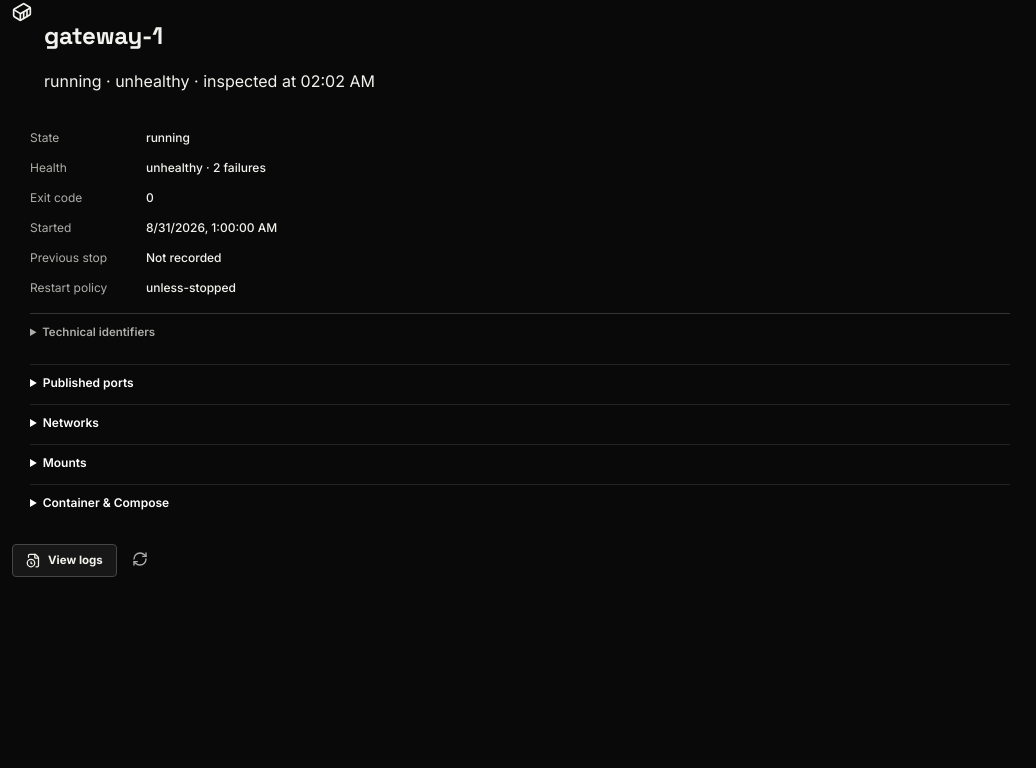
Test: DockerContainerInspector › shows typed sections and never renders sensitive Docker fields
Expected: the text "Previous stop" is shown, [30,250,107,265]
Click the heading "Published ports" at (88, 382), box [43,375,134,390]
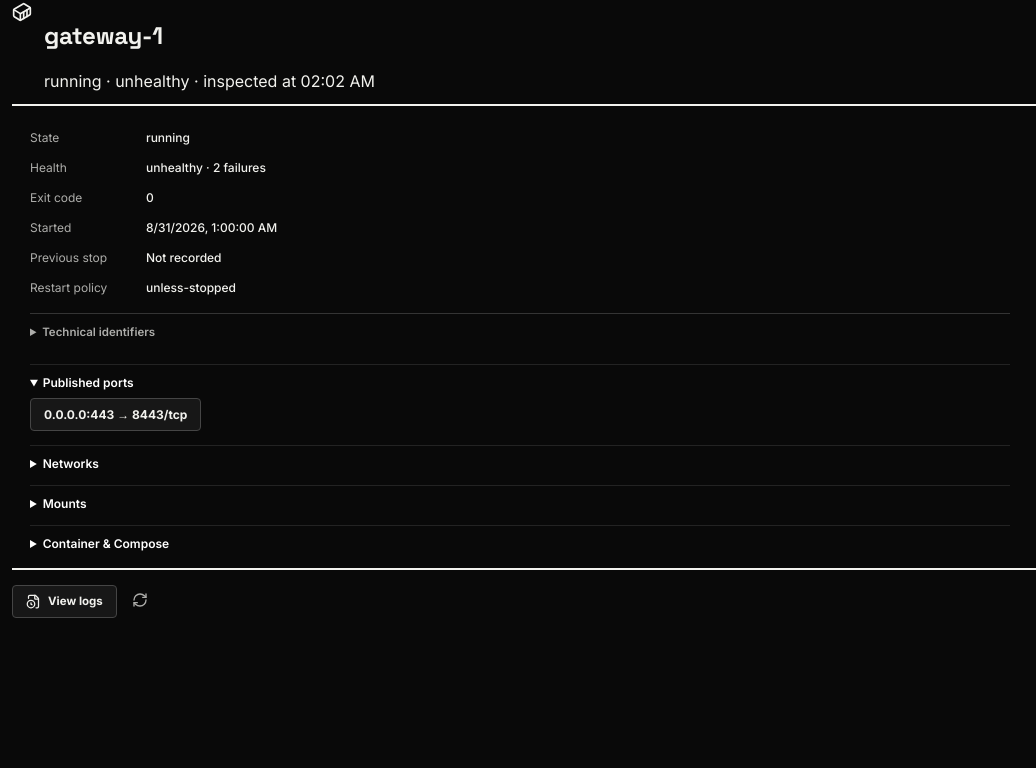
Expected: the button with aria-label "Open 0.0.0.0:443 → 8443/tcp in Ports" is shown, [30,398,201,431]
Click the heading "Networks" at (71, 463), box [43,456,99,471]
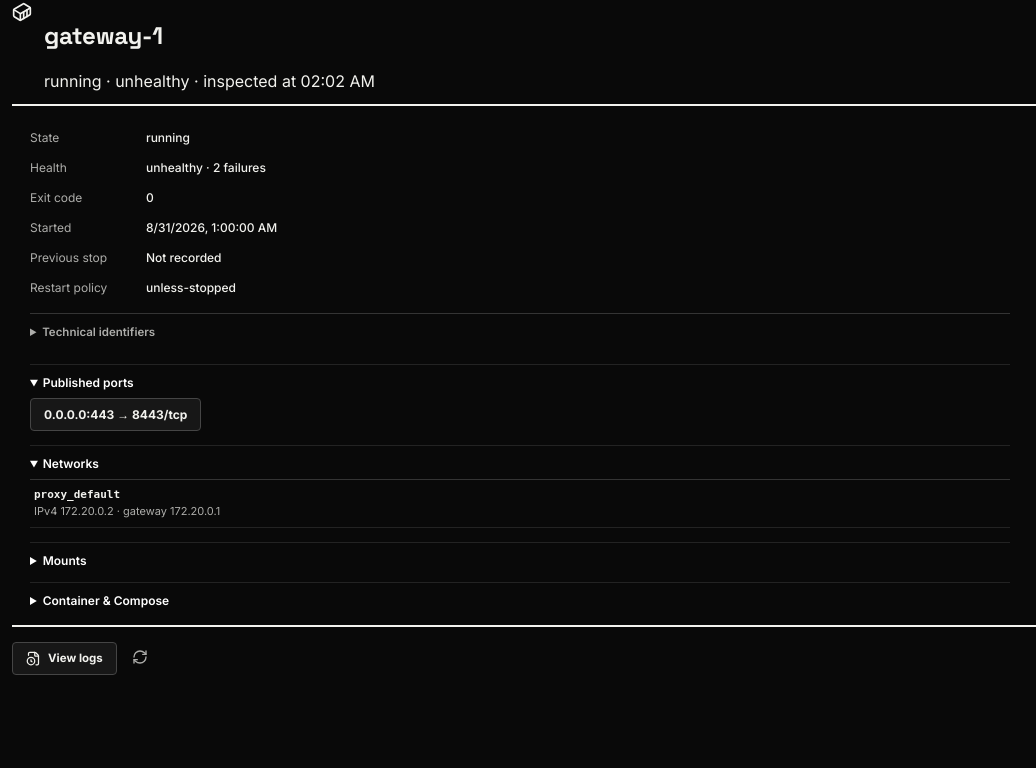
Expected: the text "proxy_default" is shown, [34,488,120,501]
Click the heading "Mounts" at (65, 560), box [43,553,86,568]
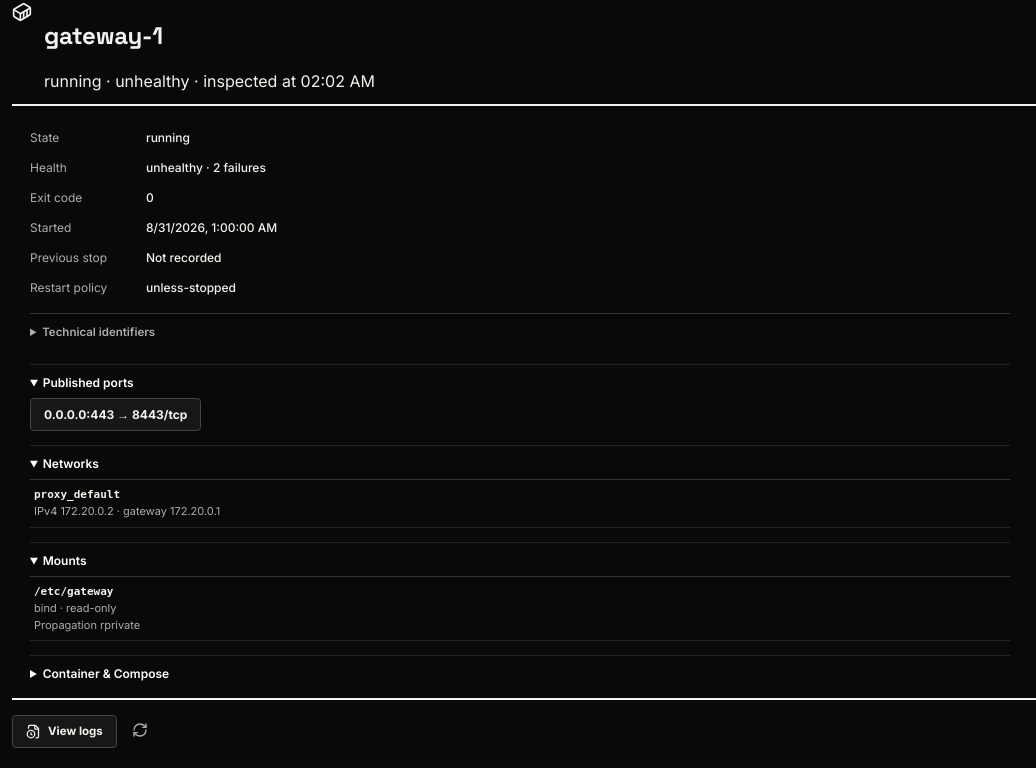
Expected: the text "/etc/gateway" is shown, [34,585,114,598]
Click the heading "Container & Compose" at (106, 673), box [43,666,169,681]
(page scrolled)
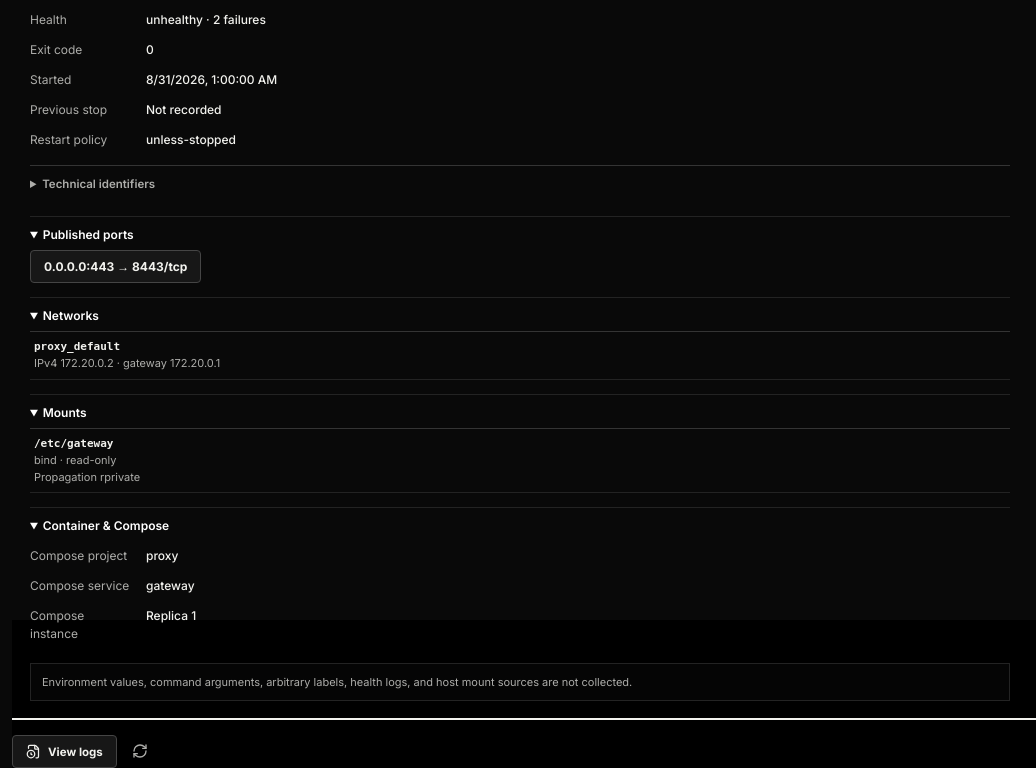
Expected: the text "Environment values, command arguments, arbitrary labels, health logs, and host mount sources are not collected." is shown, [42,675,632,689]
